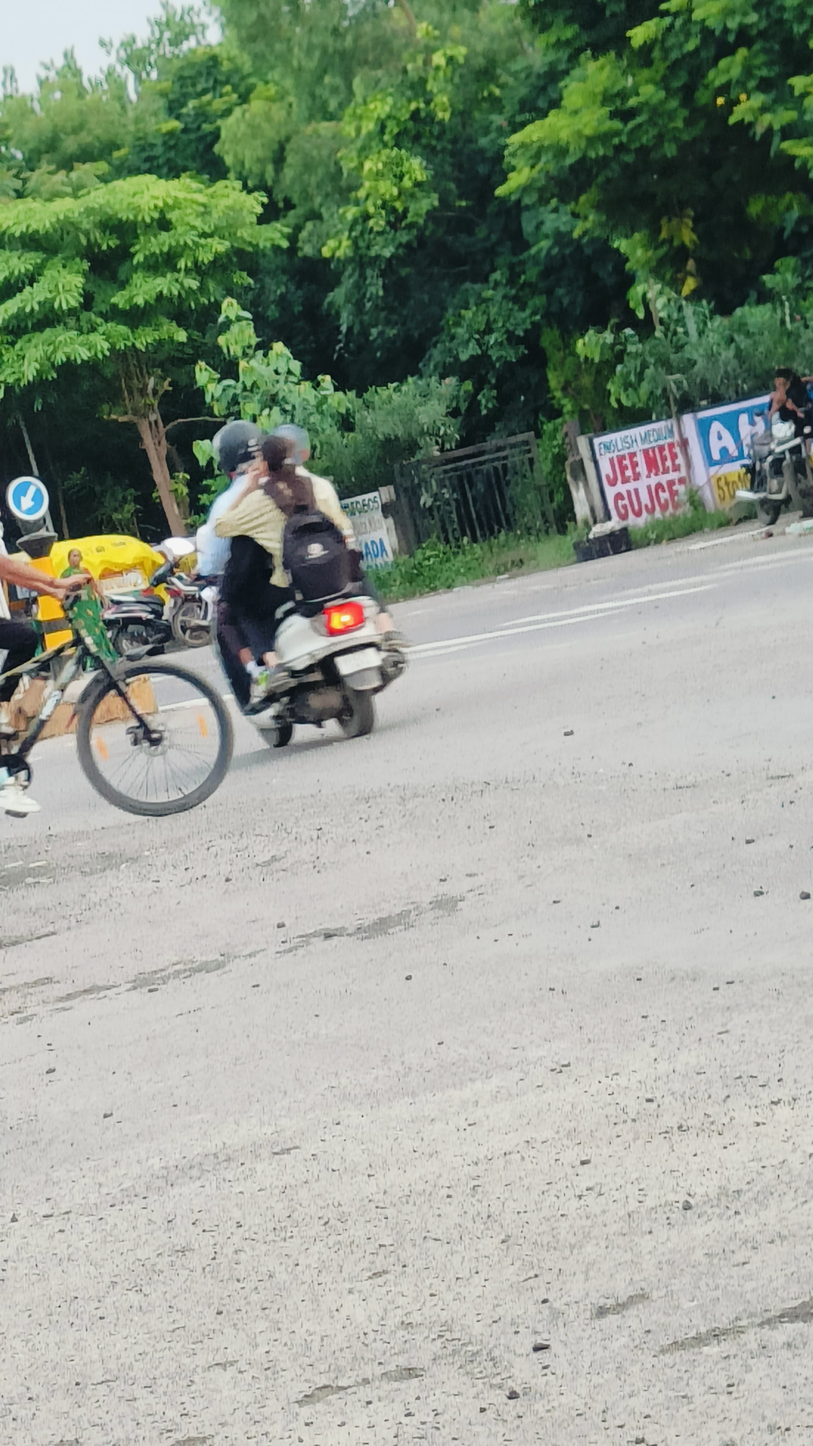BikeWithRider: (170, 407, 418, 758)
Helmet: (207, 415, 269, 488)
NoHelmet: (253, 419, 315, 482)
